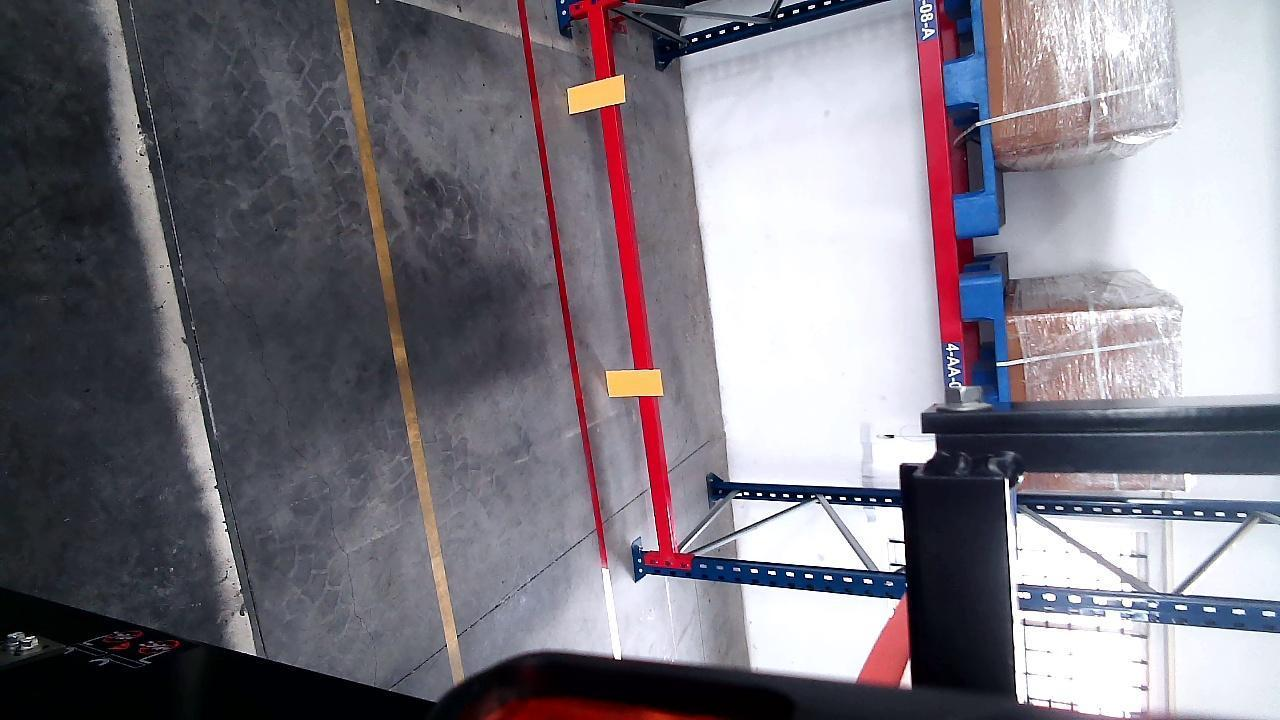h_rack: (593, 16, 673, 561), (919, 0, 963, 390), (1014, 590, 1280, 630)
orange_strip: (567, 74, 626, 112), (607, 367, 661, 397)
red_line: (519, 0, 606, 596)
small_pallet: (940, 0, 996, 220), (962, 273, 1007, 399)
yellow_line: (323, 0, 480, 679)
